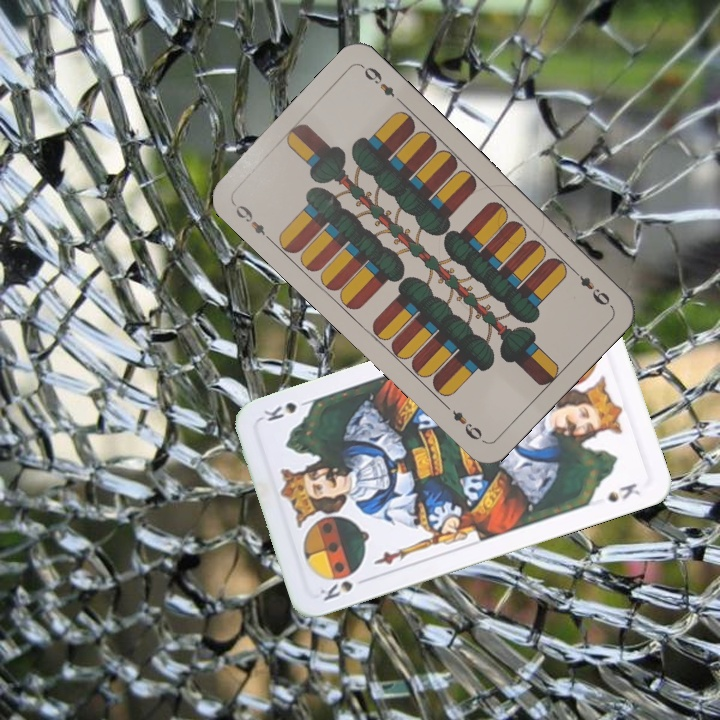E9: (228, 198, 275, 244), (567, 264, 613, 309)
SK: (315, 576, 356, 604)
